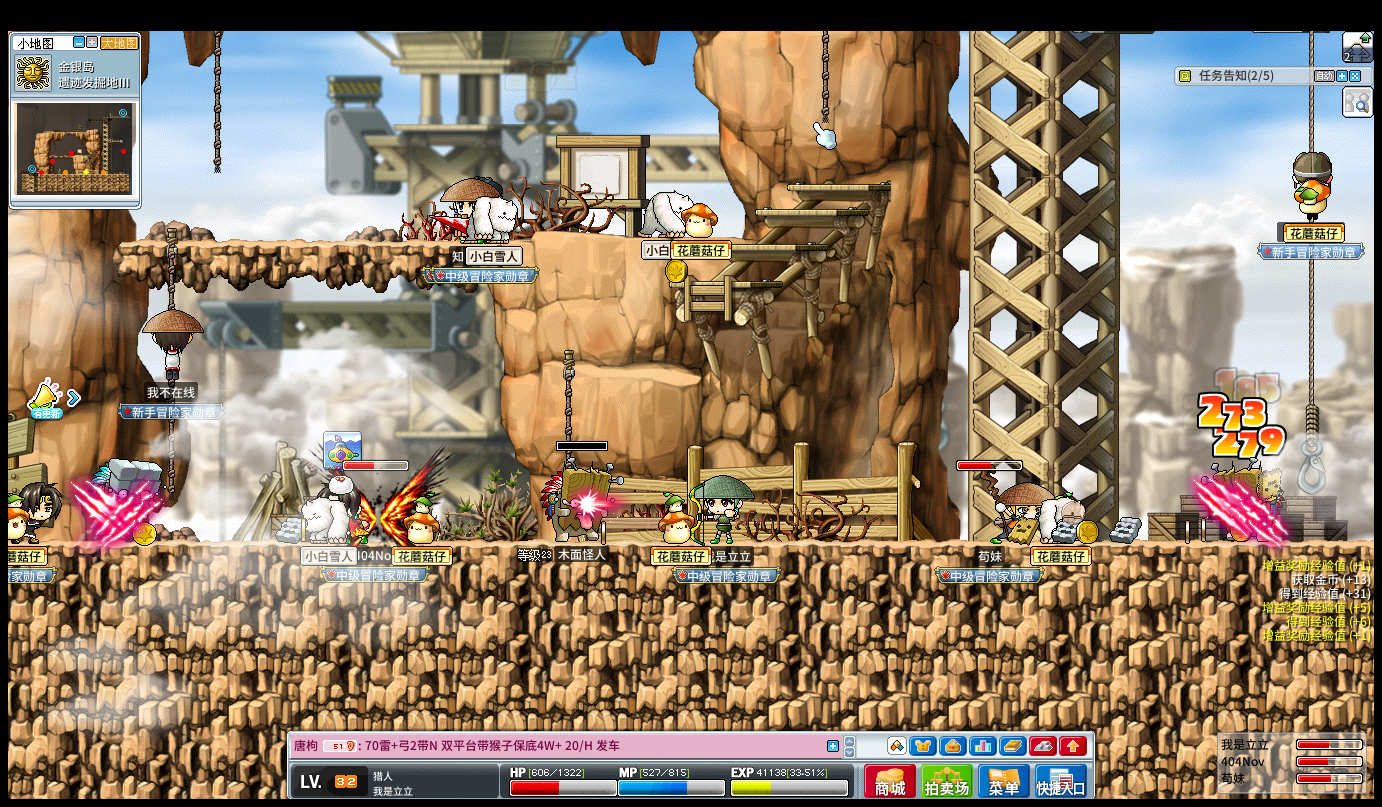floor: (118, 239, 491, 249), (592, 364, 701, 384), (664, 279, 776, 291), (663, 280, 777, 288), (722, 242, 826, 250), (754, 207, 866, 214), (788, 184, 891, 191)
monster: (90, 457, 161, 540), (1208, 464, 1283, 541), (542, 462, 615, 538)
rope: (1304, 258, 1315, 407), (212, 32, 221, 169), (1304, 28, 1313, 152), (562, 348, 574, 436), (164, 228, 176, 309), (820, 30, 829, 123), (1306, 401, 1321, 439)
